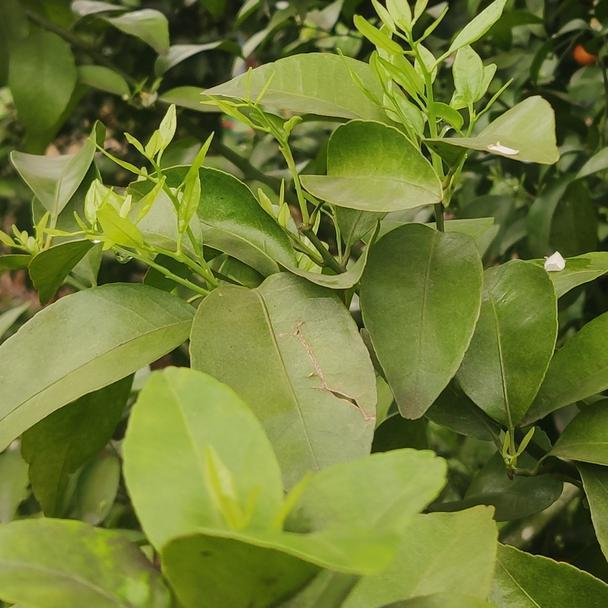shoot: (359, 2, 488, 122), (108, 126, 215, 216), (217, 79, 301, 168)
